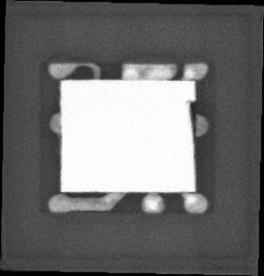DIE_BROKEN: (188, 96, 197, 140)
